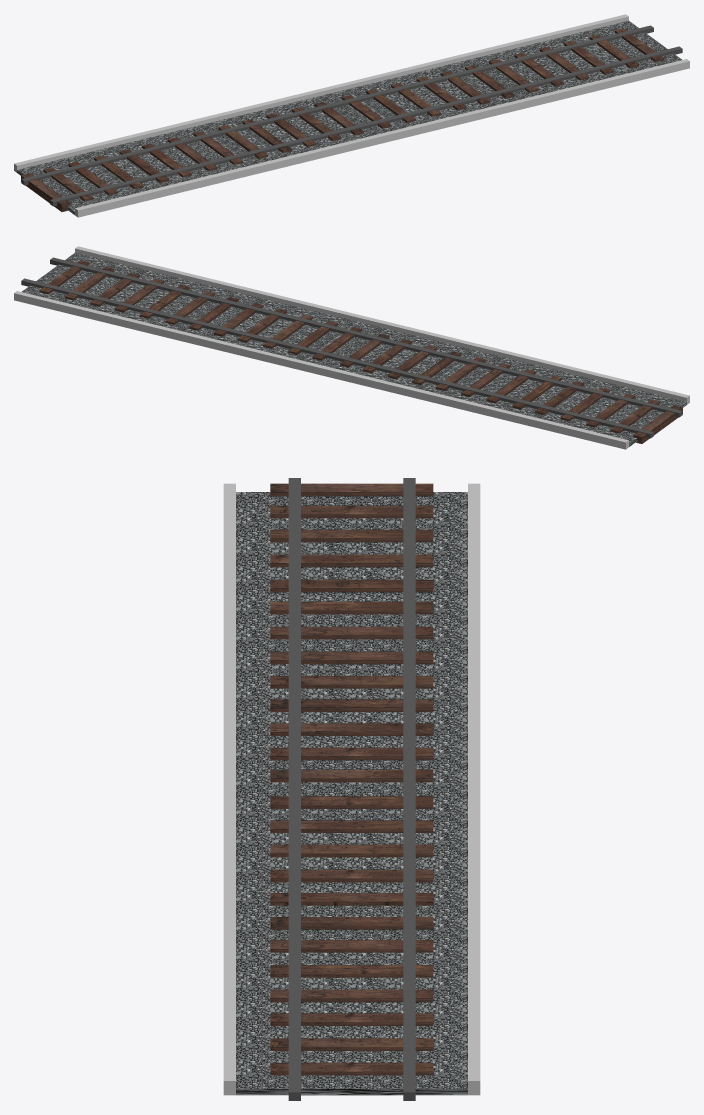
File: spoorrails.fbx
The picture shows the model from 3 angles, top to bottom: view 1: azimuth 30°, elevation 25°; view 2: azimuth 150°, elevation 25°; view 3: azimuth 270°, elevation 25°; orthographic projection. The views are drawn at different scales.
Visible parts, largest first — view 1: gravel, sideleft, sideright, traintrachleft, traintrackright, plank.011, plank.023, plank, plank.017, plank.005, plank.016, plank.001 (+18 smaller); view 2: gravel, sideright, sideleft, traintrackright, traintrachleft, plank.011, plank.009, plank.020, plank, plank.007, plank.015, plank.023 (+18 smaller); view 3: gravel, traintrachleft, traintrackright, sideleft, sideright, plank, plank.001, plank.002, plank.003, plank.004, plank.005, plank.006 (+18 smaller).
Boxes of the visible parts, <box> form: gravel: <box>17,20,681,214</box>; sideleft: <box>75,59,689,217</box>; sideright: <box>14,14,628,172</box>; traintrachleft: <box>50,46,682,206</box>; traintrackright: <box>21,25,653,185</box>; plank.011: <box>21,173,70,211</box>; plank.023: <box>589,34,639,68</box>; plank: <box>43,167,93,201</box>; plank.017: <box>440,71,490,104</box>; plank.005: <box>167,137,217,171</box>; plank.016: <box>416,76,466,110</box>; plank.001: <box>68,162,117,195</box>; gravel: <box>22,252,686,446</box>; sideright: <box>14,291,628,449</box>; sideleft: <box>75,246,689,404</box>; traintrackright: <box>21,278,653,438</box>; traintrachleft: <box>50,257,682,417</box>; plank.011: <box>633,405,682,443</box>; plank.009: <box>387,345,437,379</box>; plank.020: <box>139,285,189,318</box>; plank: <box>610,399,660,433</box>; plank.007: <box>436,357,485,390</box>; plank.015: <box>263,315,312,348</box>; plank.023: <box>64,266,114,300</box>; gravel: <box>236,492,467,1095</box>; traintrachleft: <box>288,478,300,1100</box>; traintrackright: <box>403,478,415,1100</box>; sideleft: <box>223,483,235,1095</box>; sideright: <box>468,483,480,1095</box>; plank: <box>270,505,433,518</box>; plank.001: <box>270,529,433,542</box>; plank.002: <box>270,554,433,567</box>; plank.003: <box>270,579,433,592</box>; plank.004: <box>270,601,433,614</box>; plank.005: <box>270,626,433,639</box>; plank.006: <box>270,651,433,664</box>.
Bounding box in the file's own units: 2544 × 35.32 × 449.
